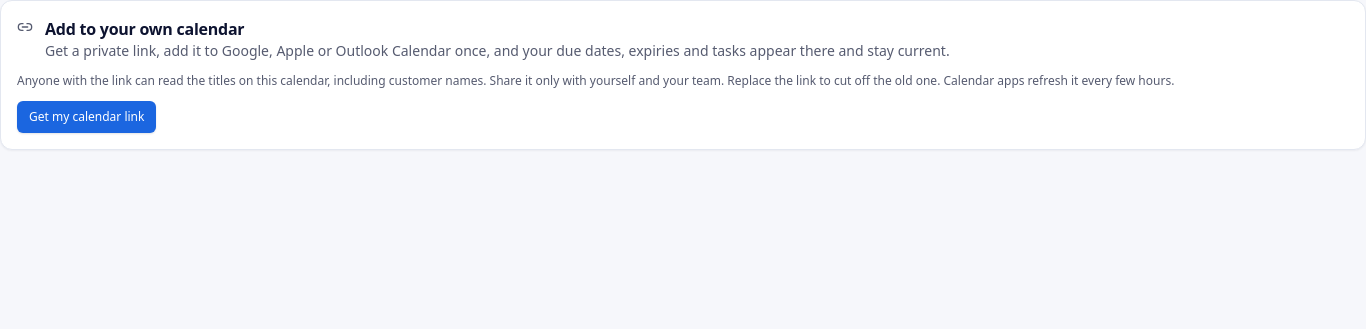
Test: CalendarFeedCard › makes the link, shows it once with the privacy note, then offers replace and turn off
Click the button "Get my calendar link" at (87, 117), box [17,101,156,133]
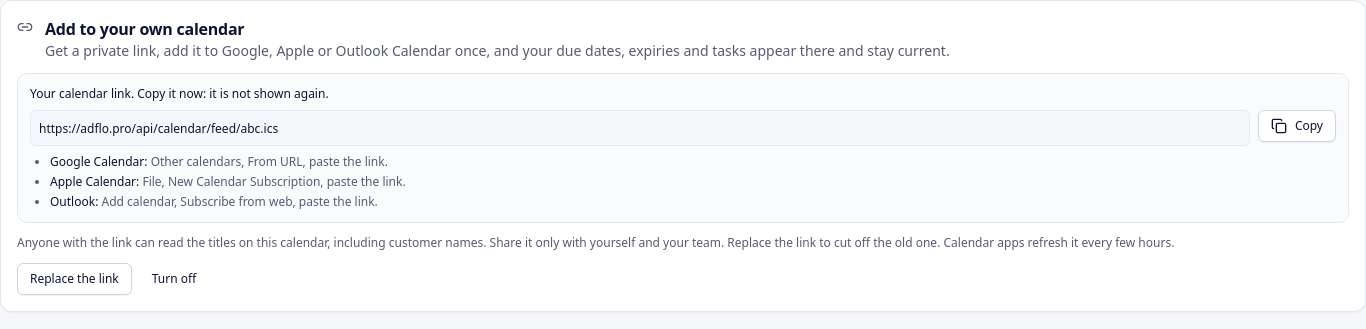
Expected: the text "Anyone with the link can read the titles" is shown, [17,234,1174,251]
Expected: the field named "Calendar link" holds "https://adflo.pro/api/calendar/feed/abc.ics", [30,110,1250,146]
Expected: the button "Replace the link" is shown, [17,263,132,295]
Click the button "Turn off" at (174, 279), box [140,263,208,295]
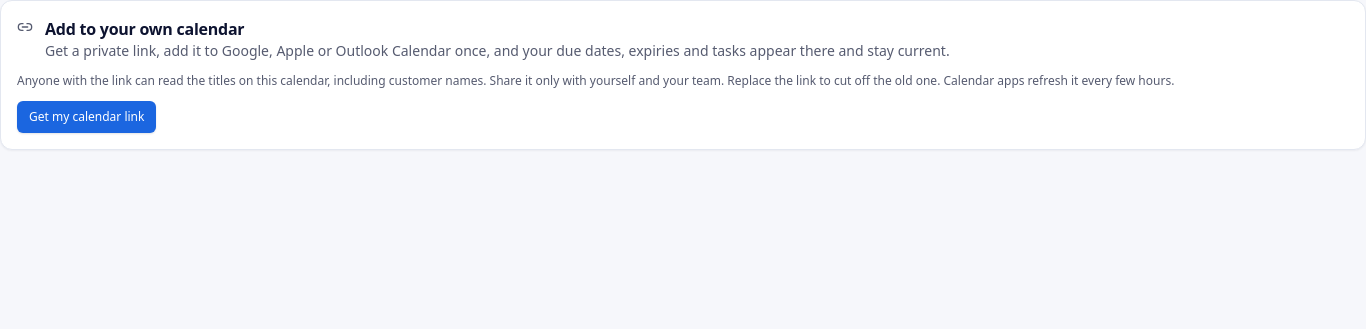
Expected: the button "Get my calendar link" is shown, [17,101,156,133]
